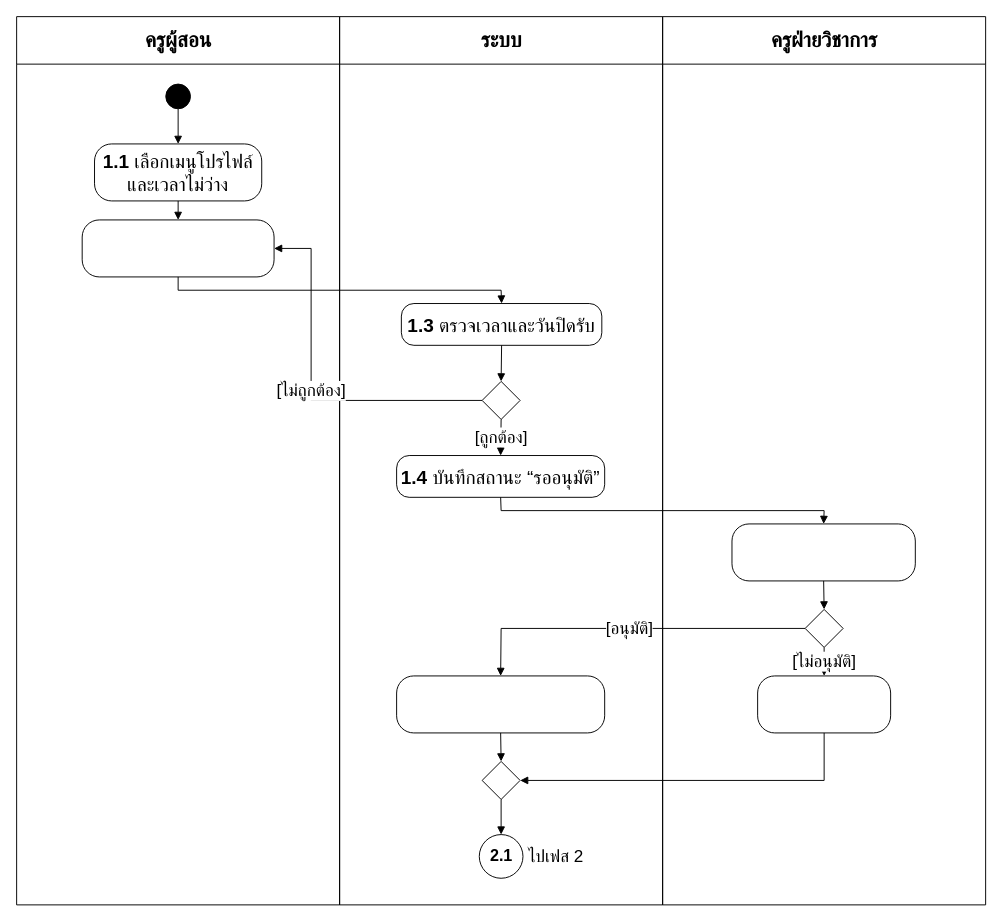
Some shapes in this 1002 by 922 pixel diagram are drawn without their labels. Here are the shapes that lost their labels. From the top down, the centre of each, then its label:
[177,248]: 1.2 เพิ่มวัน เวลา เหตุผล และรายละเอียด
[823,552]: 1.5 พิจารณาเวลาไม่ว่าง ในเมนูคำขออนุมัติ
[500,704]: 1.6 เปลี่ยนเป็น “อนุมัติแล้ว” ใช้เป็นเงื่อนไขจัดตาราง
[824,704]: 1.7 ไม่อนุมัติ พร้อมหมายเหตุ
